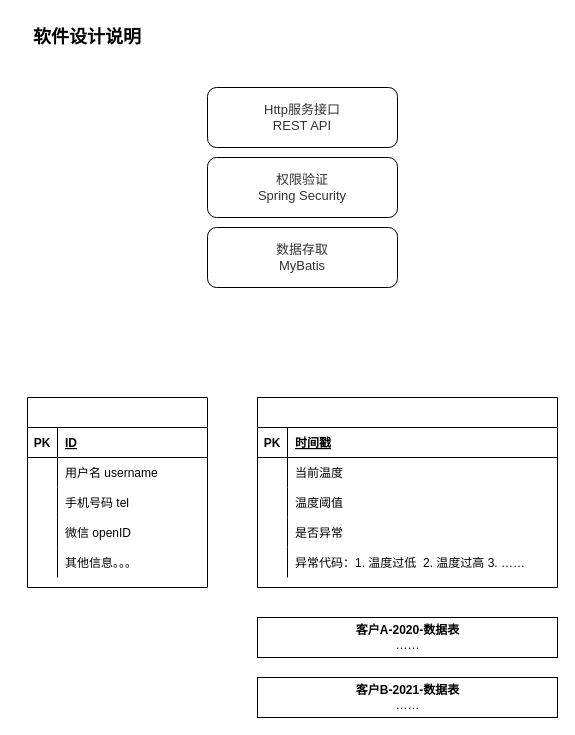
Some shapes in this 575 by 735 pixel diagram are drawn without their labels. Each missing label, with the box of its shape:
客户A-2021-数据表: (256, 396, 558, 588)
客户数据: (26, 396, 208, 588)
